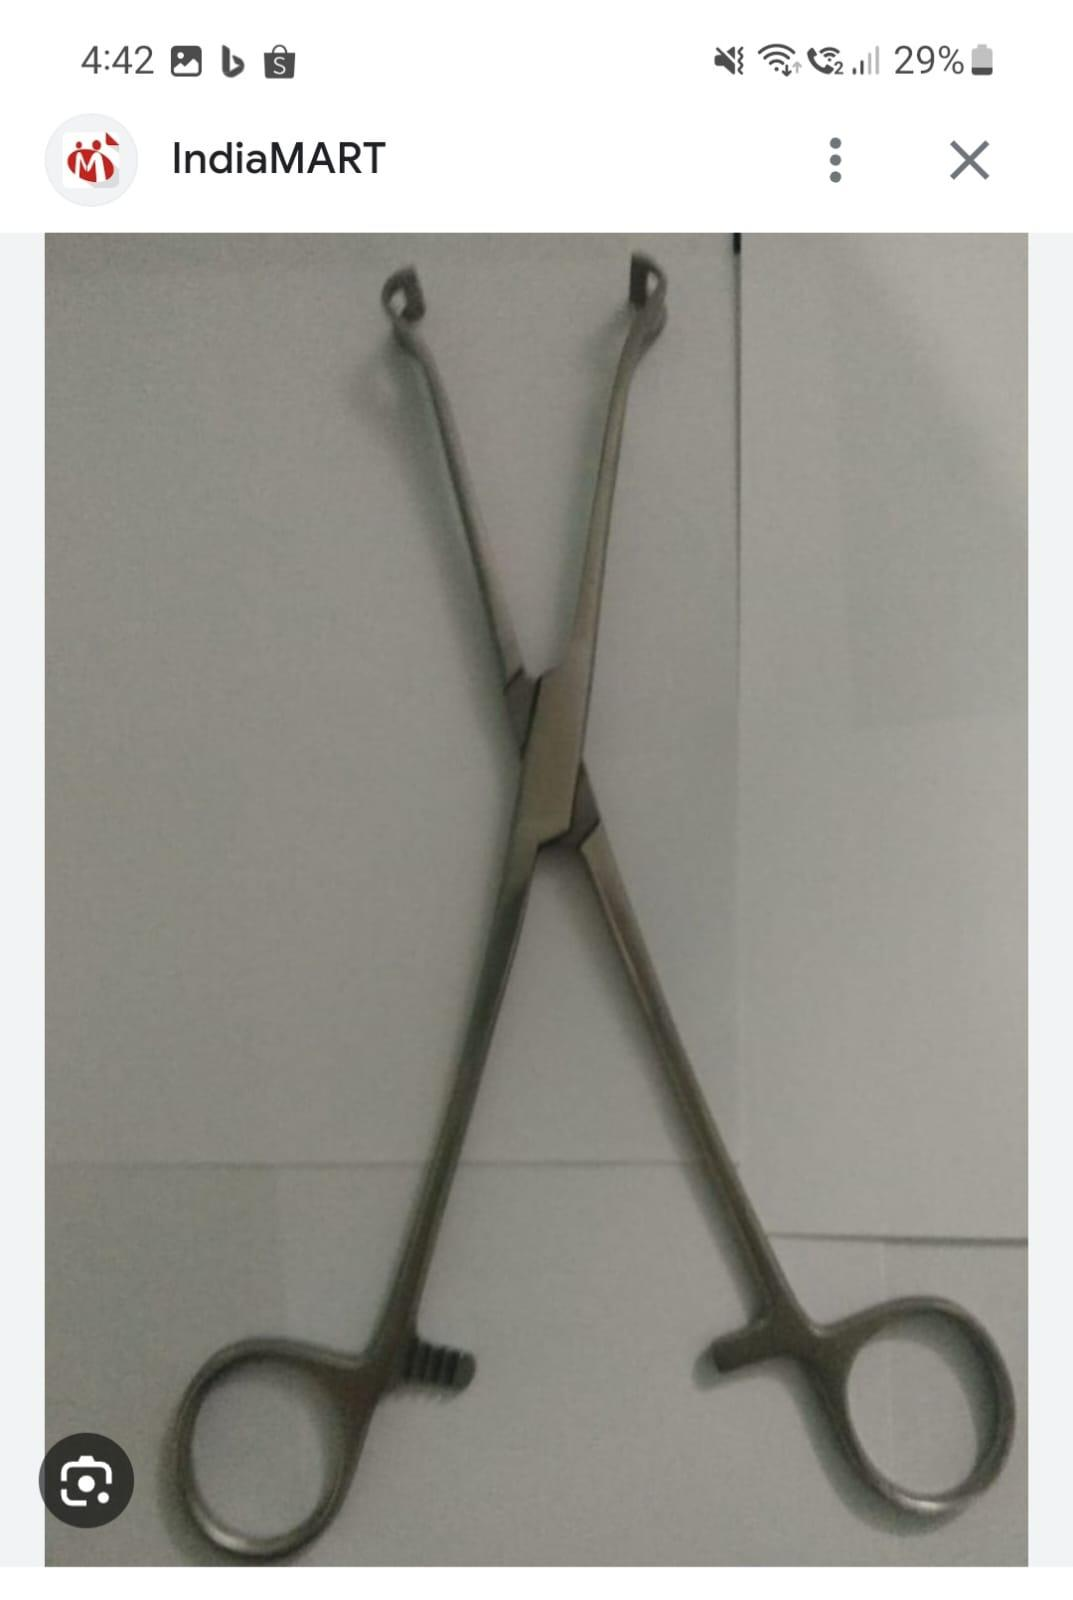Babcock Forceps: (165, 237, 1020, 1558)
